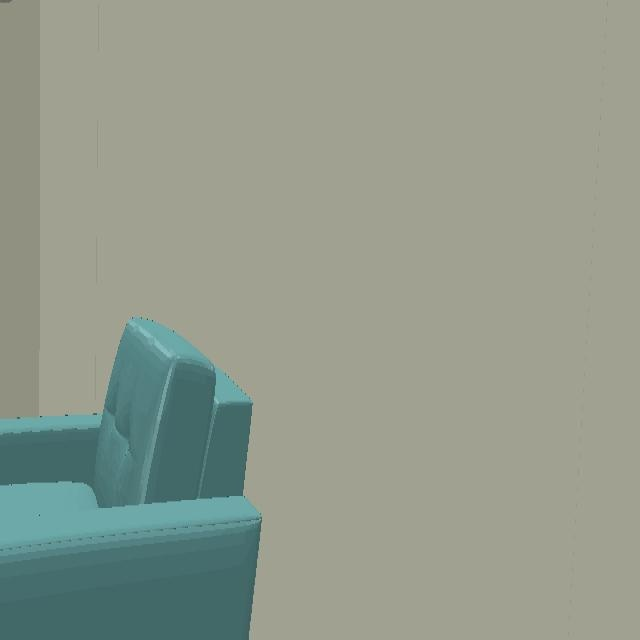sofa: (0, 318, 261, 638)
